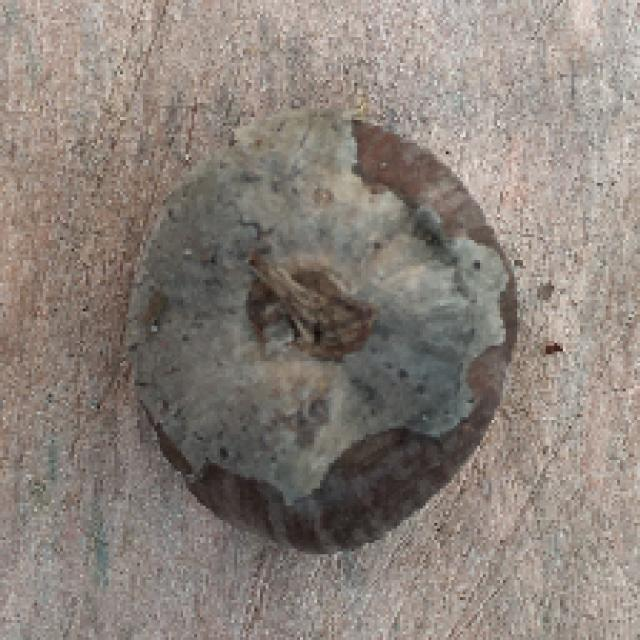damagedHazelnut: (127, 113, 526, 556)
